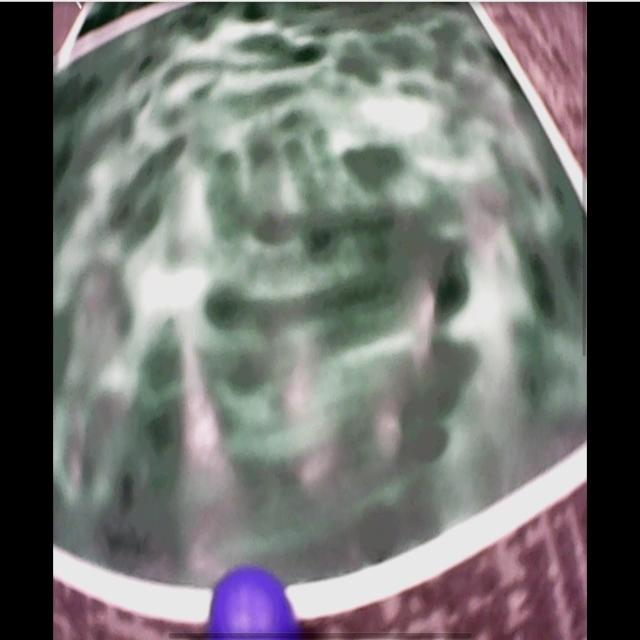ball: (209, 567, 300, 639)
